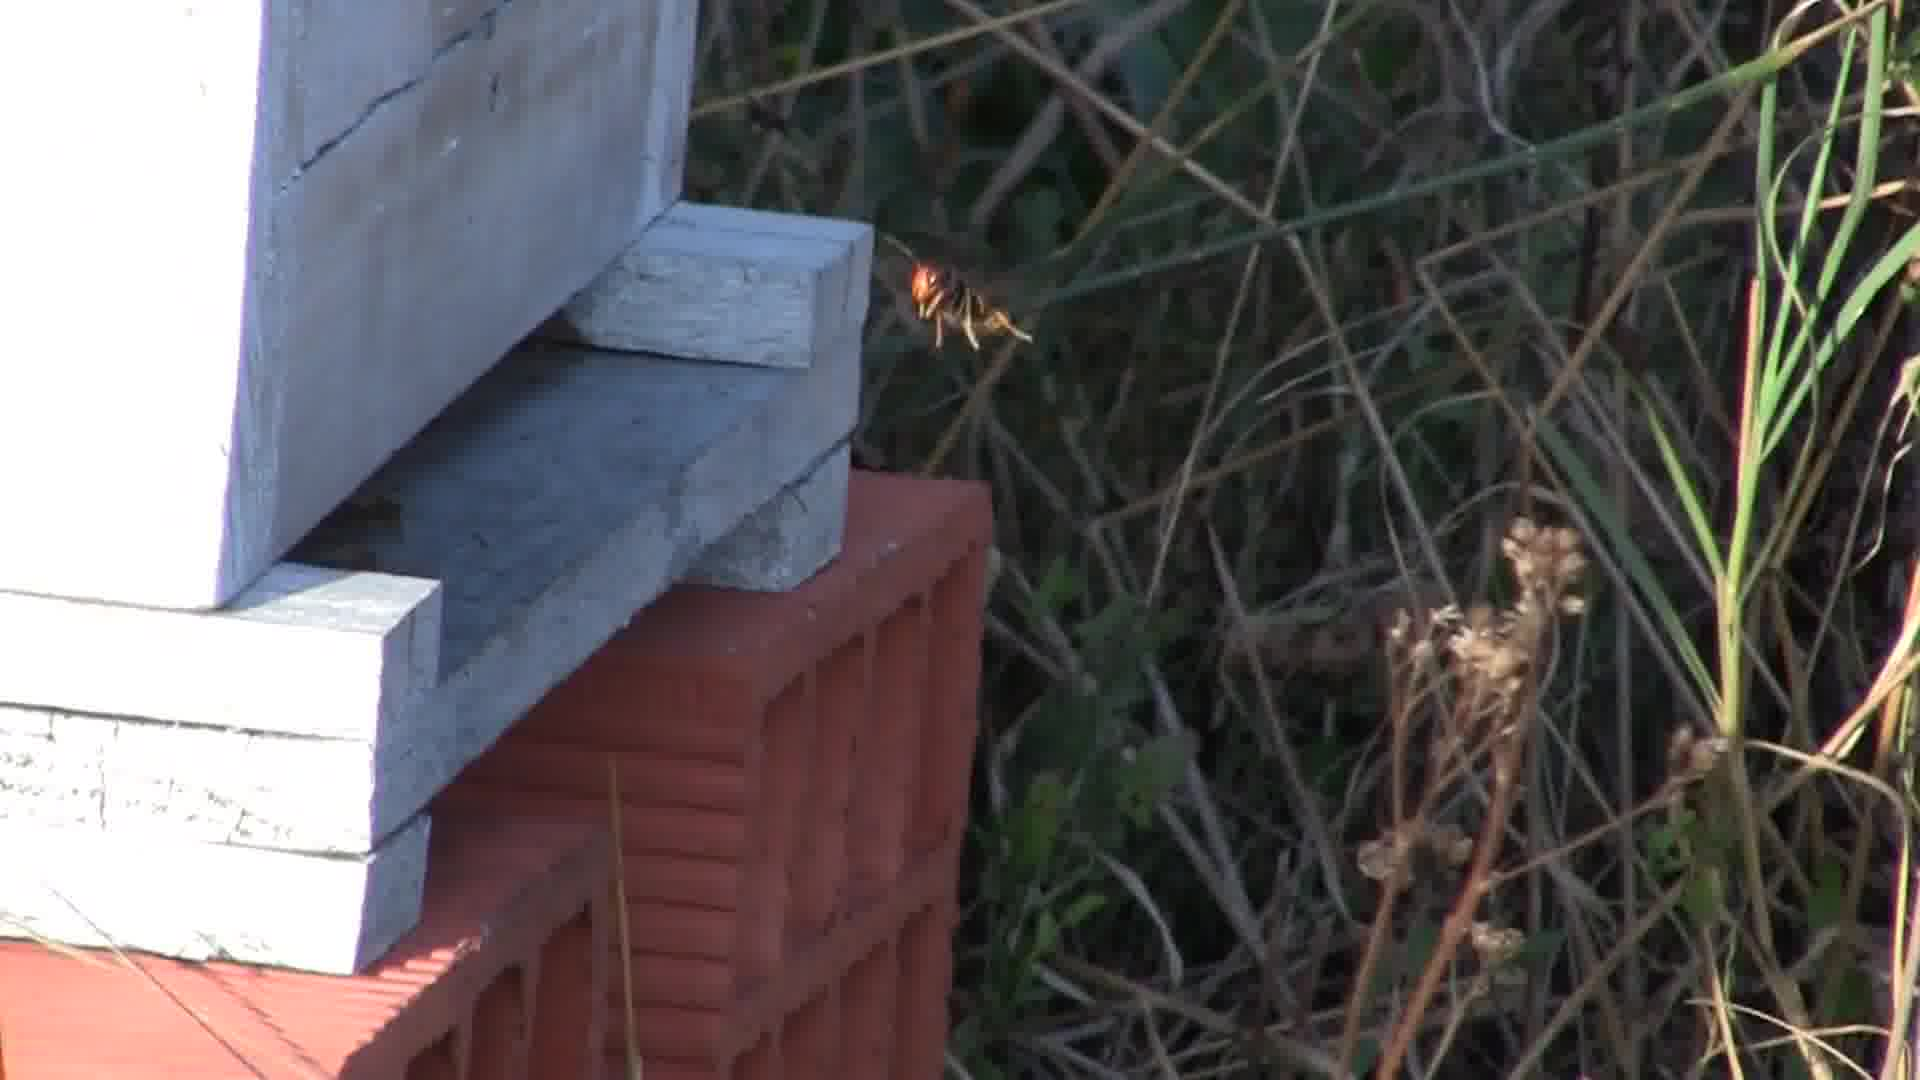hornet: (899, 245, 1029, 367)
